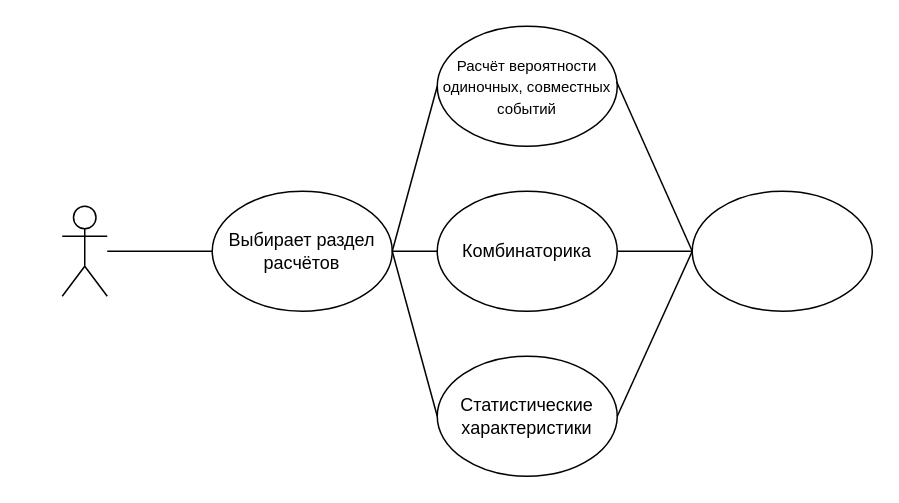
This 899x503 diagram has some shape labels left out. The shapes that lost their labels are listed below. From the top down, each one's box as (x1, y1, x2, y2) in pixels, then its label:
(61, 205, 107, 296): Пользователь
(691, 190, 872, 311): Производит расчёты и получает результаты
